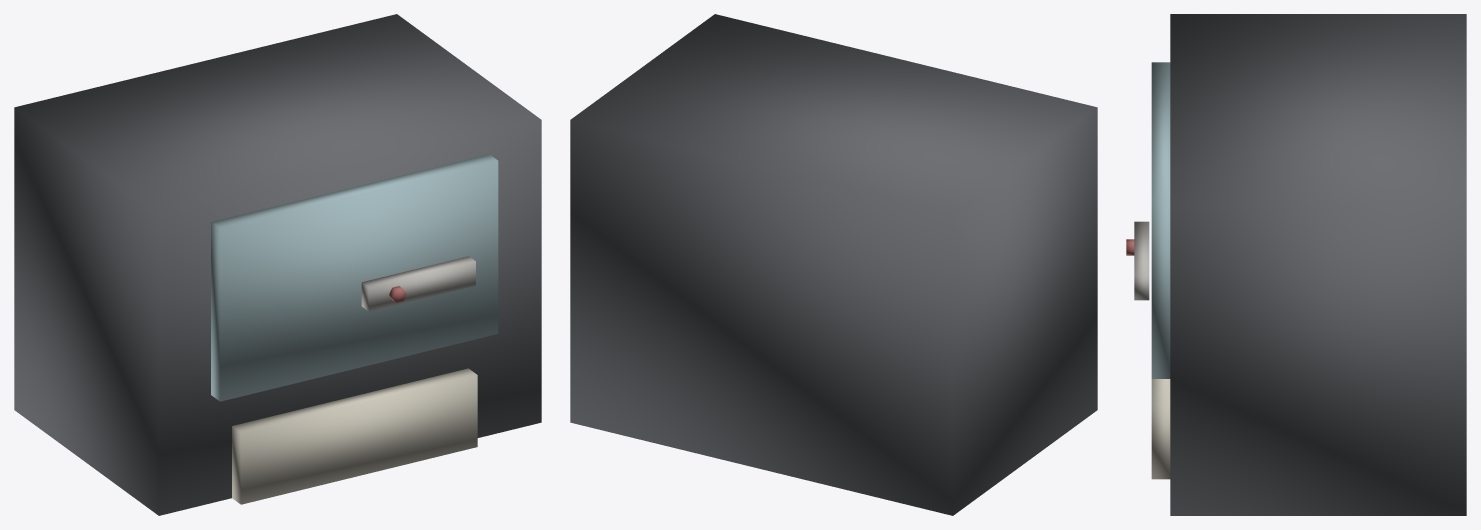
Rendered from television__reinforced.glb.
The picture shows the model from 3 angles, left to right: view 1: azimuth 30°, elevation 25°; view 2: azimuth 150°, elevation 25°; view 3: azimuth 270°, elevation 25°; orthographic projection. The views are drawn at different scales.
Parts seen in each view (by area): view 1: world; view 2: world; view 3: world.
Part boxes in pixels (x1,y1,x2,y2): world: (14, 14, 541, 515); world: (570, 14, 1097, 515); world: (1126, 14, 1466, 515).
Size of the model in its own units: 0.5665 by 0.4284 by 0.4259.
